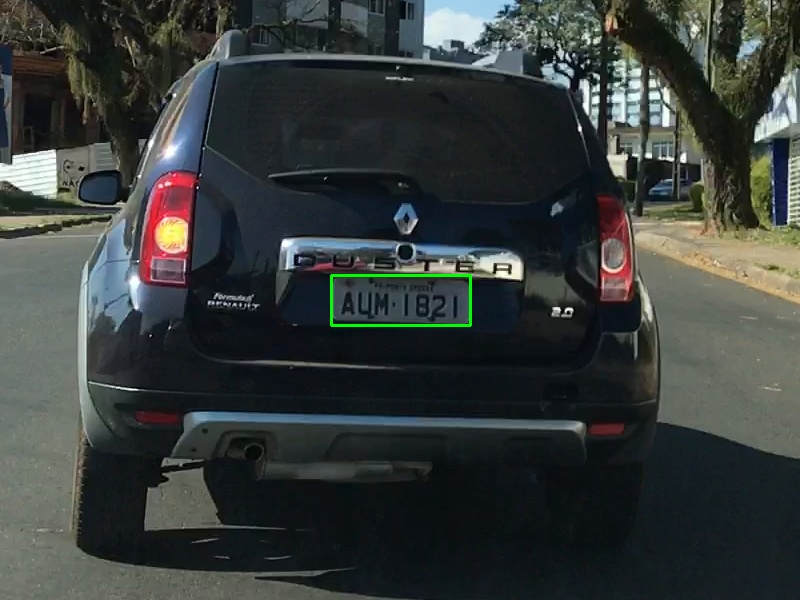placa: (331, 275, 470, 325)
